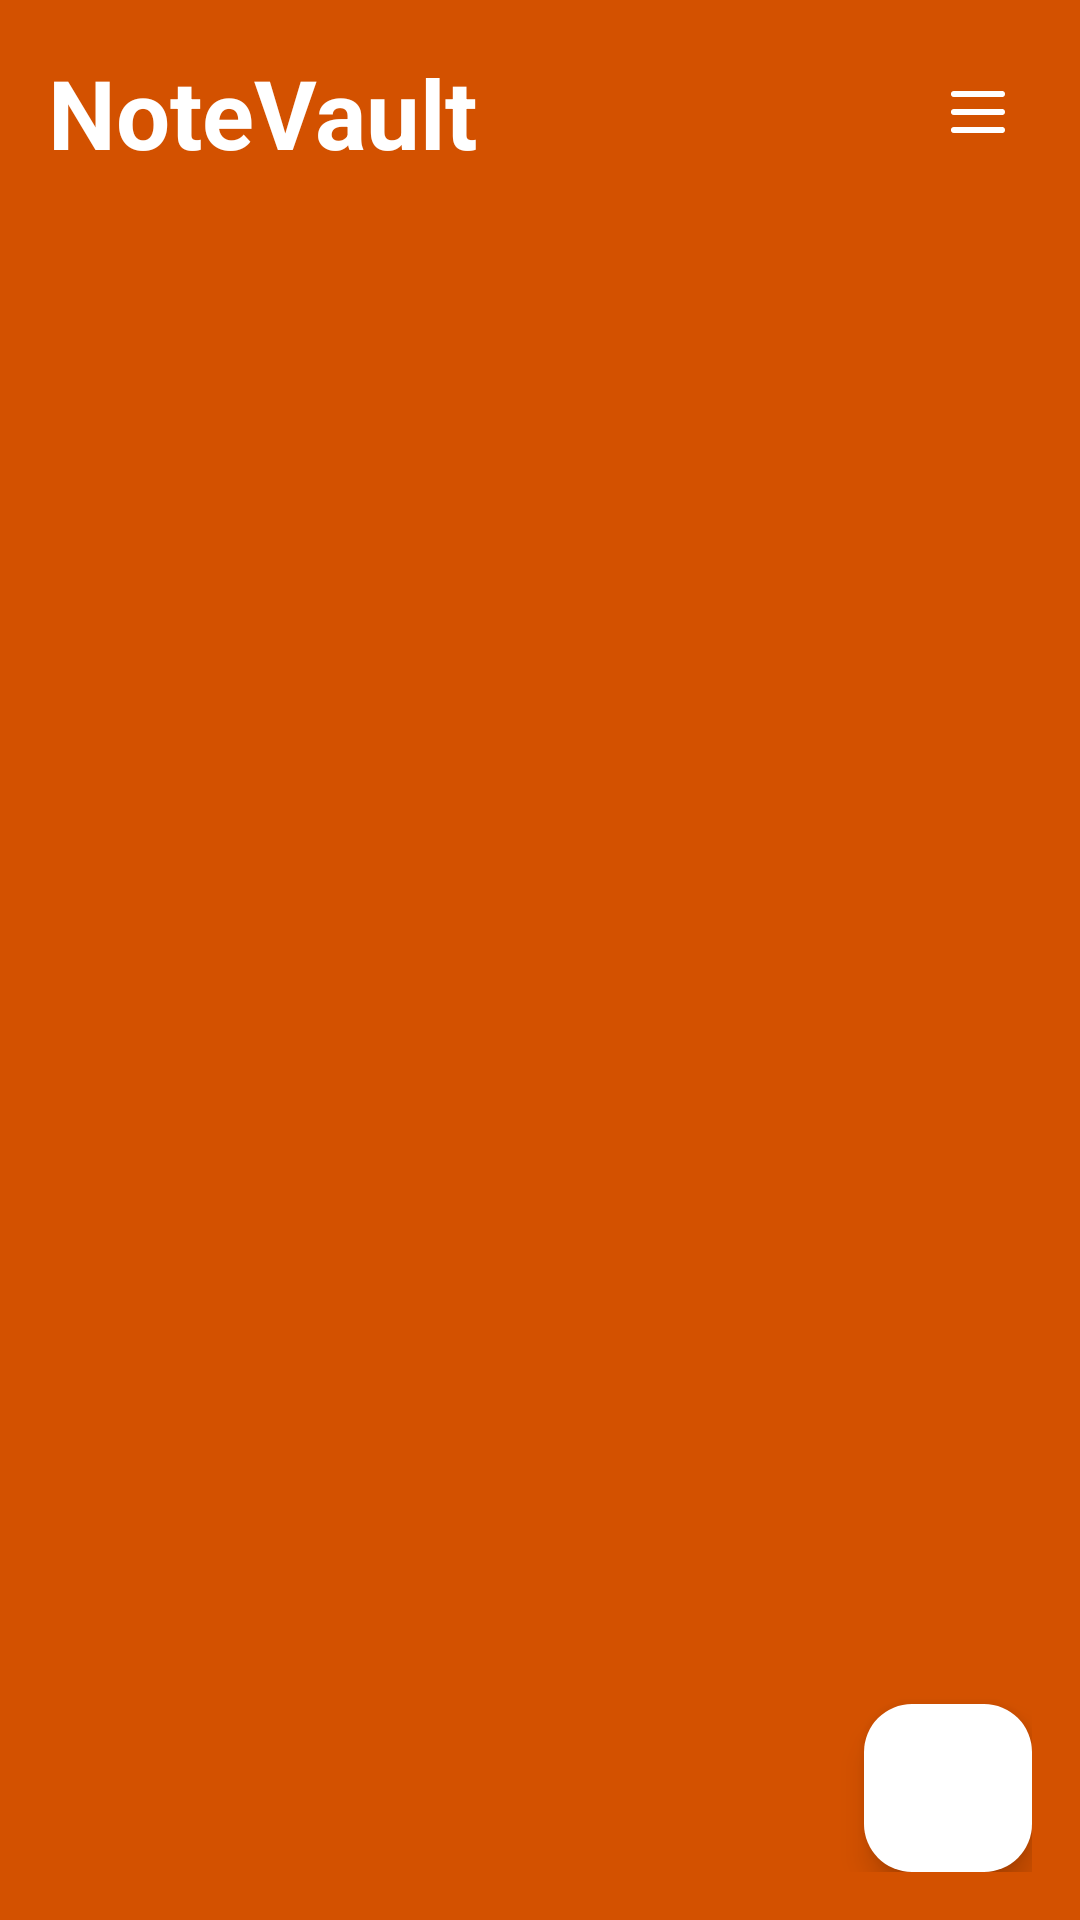

Icons on this 1080w x 1920h Android screen, each with the point to tap as (x,y):
menu: (978,112)
